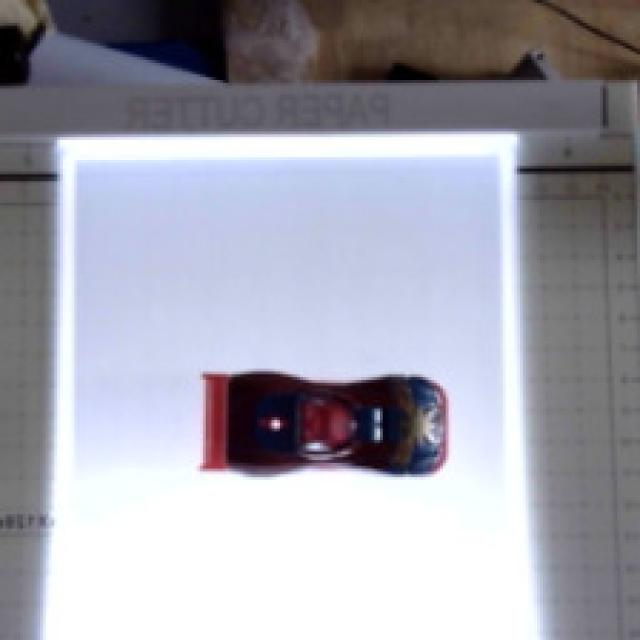Red Car: (152, 332, 471, 539)
